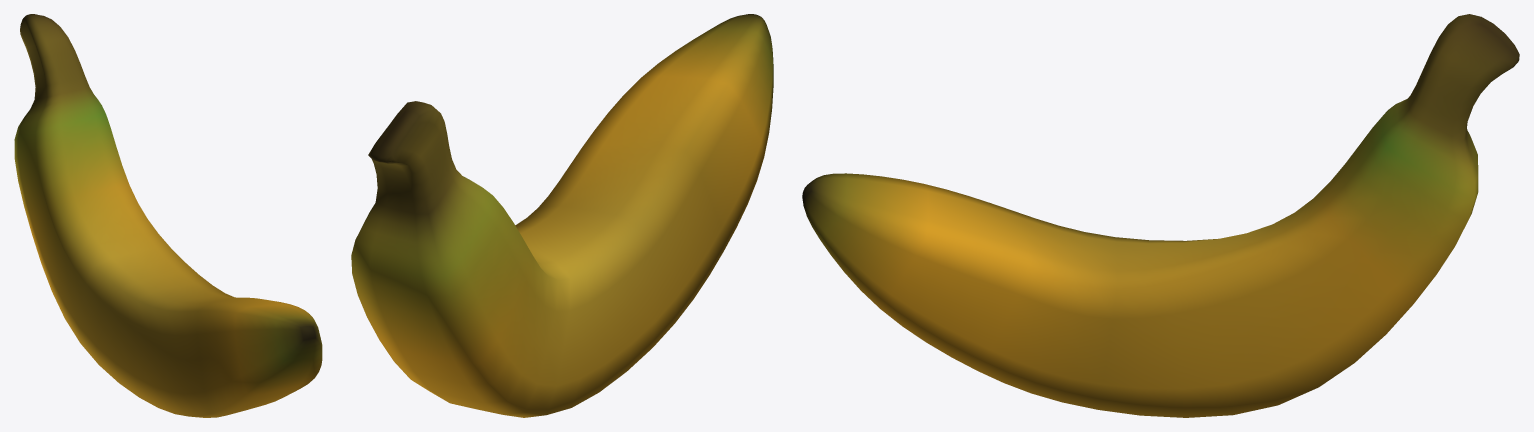
The model's file is banana.fbx.
The picture shows the model from 3 angles, left to right: view 1: azimuth 30°, elevation 25°; view 2: azimuth 150°, elevation 25°; view 3: azimuth 270°, elevation 25°; orthographic projection. The views are drawn at different scales.
Parts seen in each view (by area): view 1: Cube; view 2: Cube; view 3: Cube.
Boxes of the visible parts, x1,y1,x2,y2 form: Cube: (14,14,322,417); Cube: (351,14,773,417); Cube: (802,14,1519,417).
Size of the model in its own units: 216 by 669 by 1162.
